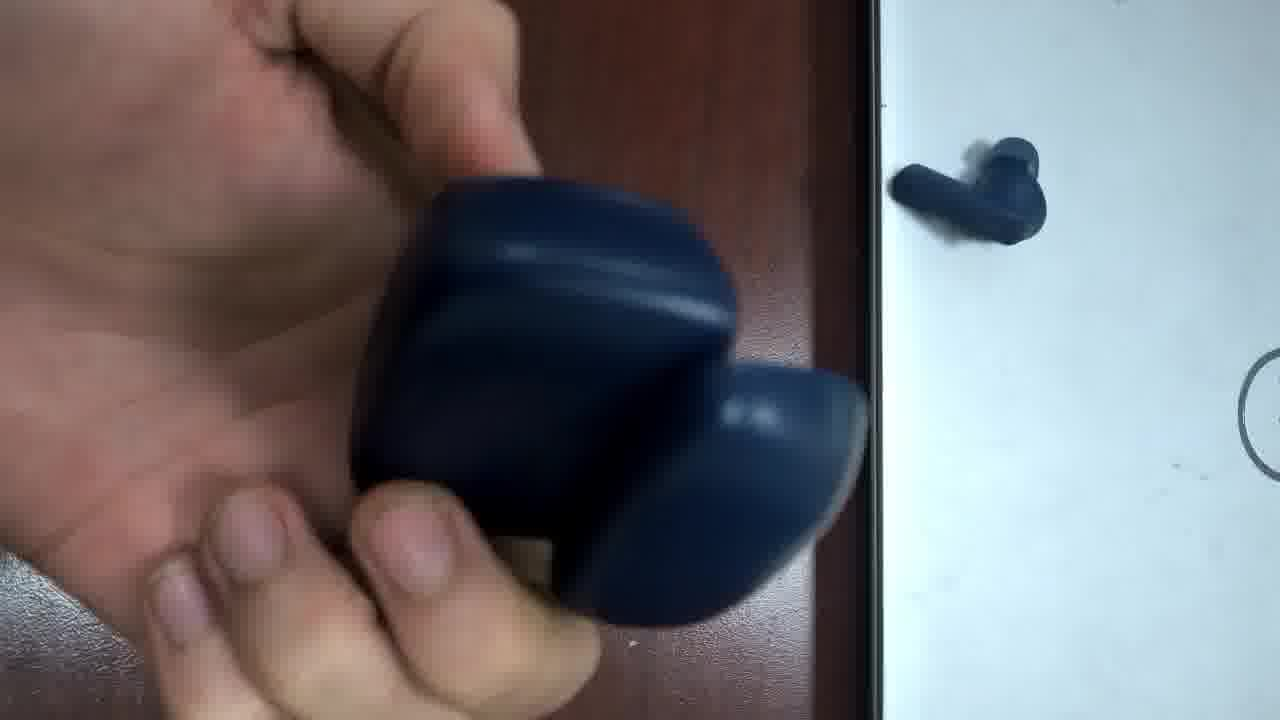Case: (351, 177, 865, 625)
Earbud: (888, 138, 1046, 244)
